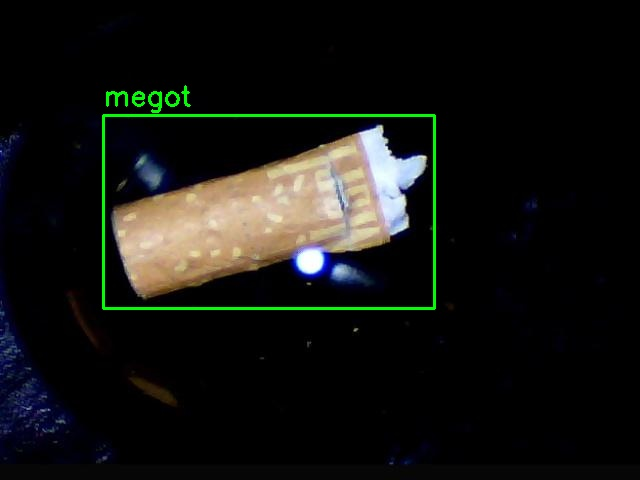megot: (103, 115, 434, 308)
